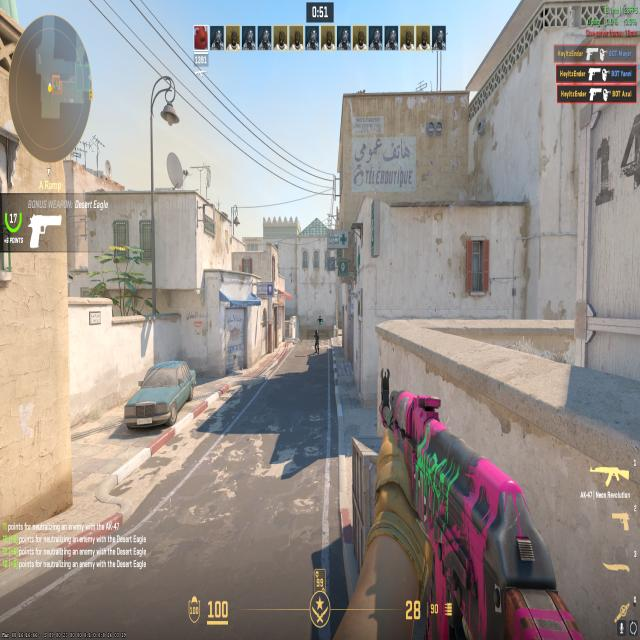ct: (312, 326, 321, 352)
